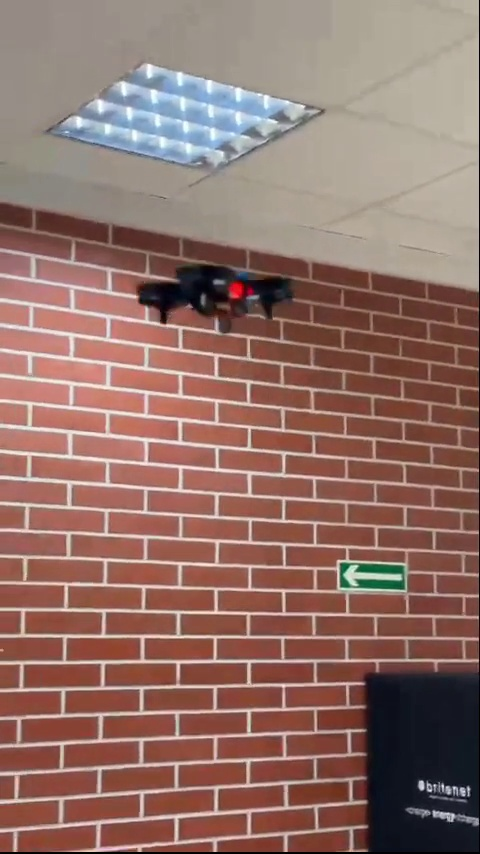drone: (135, 262, 297, 334)
